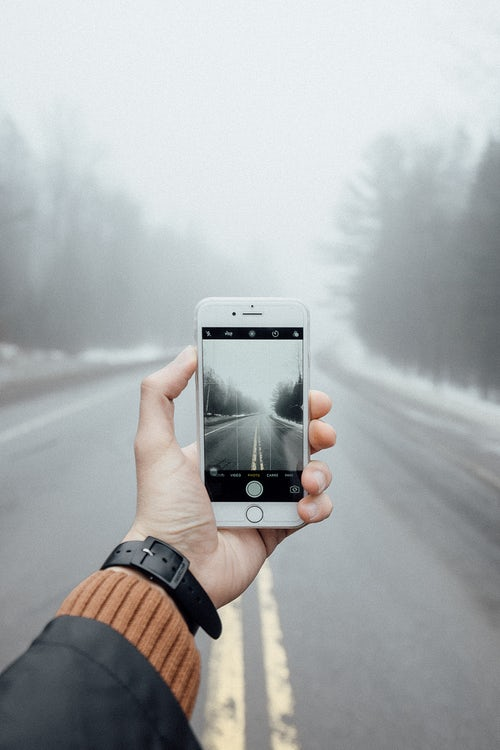phone: (193, 286, 320, 539)
